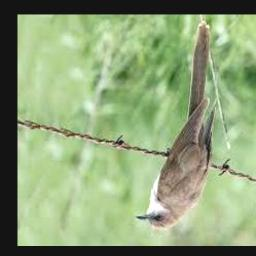Cuckoo: (135, 20, 215, 230)
